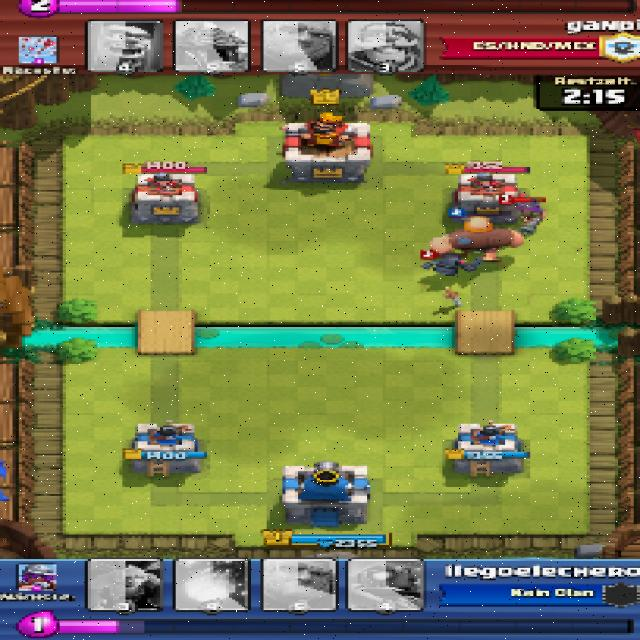Enemy-MiniPEKKA: (419, 254, 478, 278)
Enemy-Musketeer: (513, 196, 548, 230)
Player-Giant: (426, 215, 524, 260)
